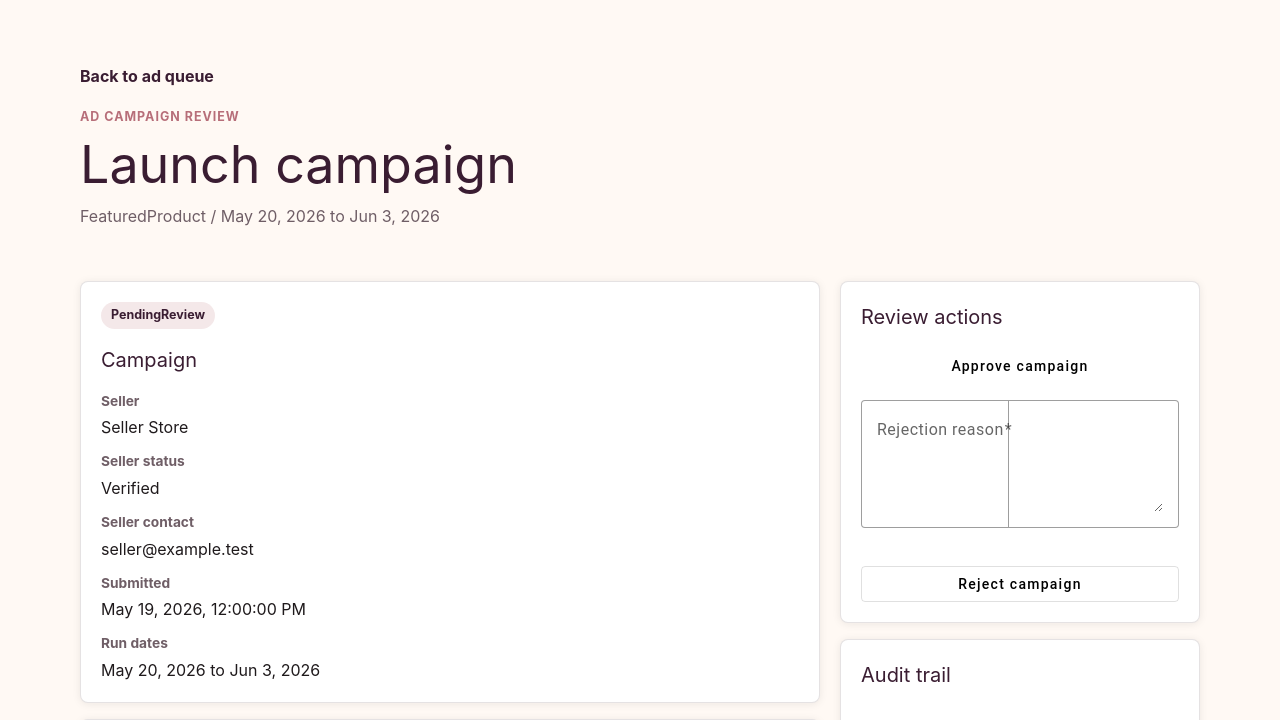
Test: AdminAdCampaignDetailPageComponent › approves a campaign
Click the button "Approve campaign": (1020, 366) x1=861 y1=348 x2=1179 y2=384
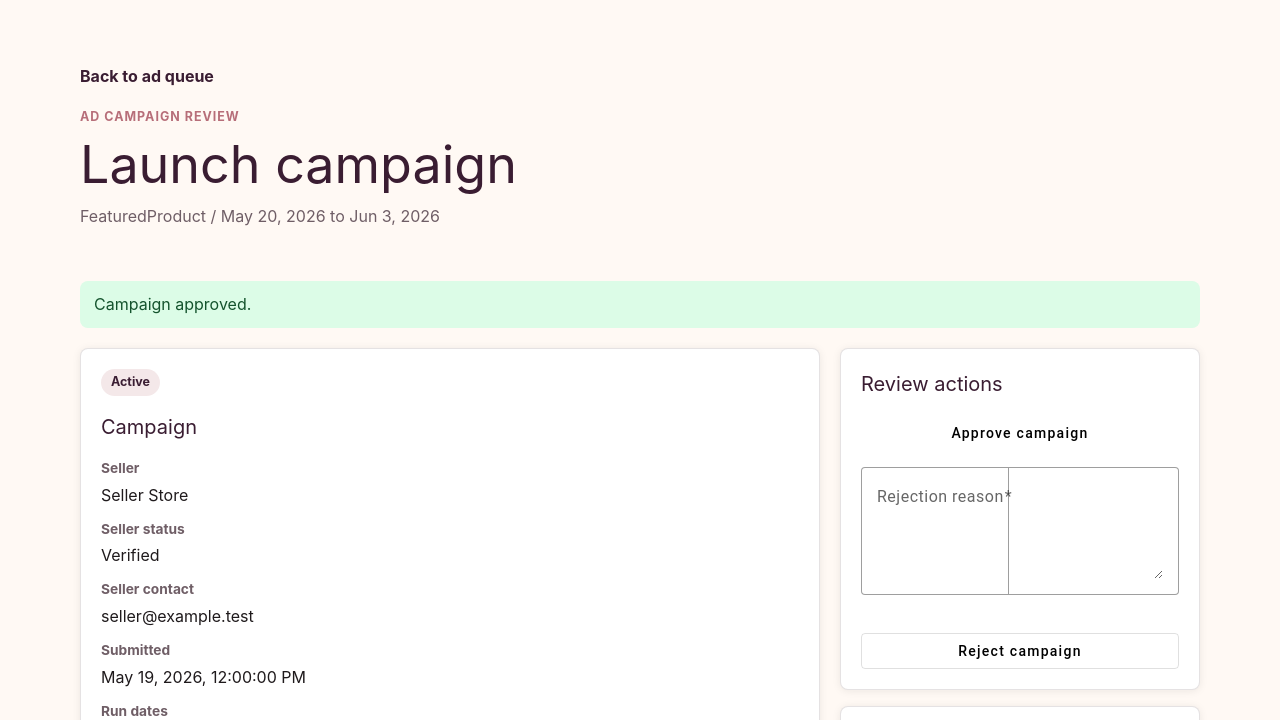
Now the text "Campaign approved." is shown, box x1=80 y1=281 x2=1200 y2=328
